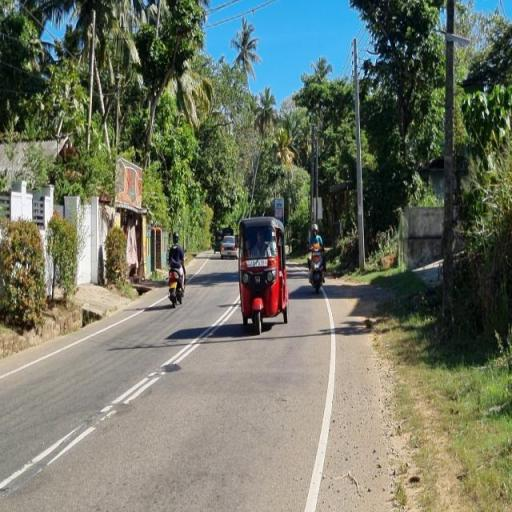double_white_line: (98, 294, 240, 422)
